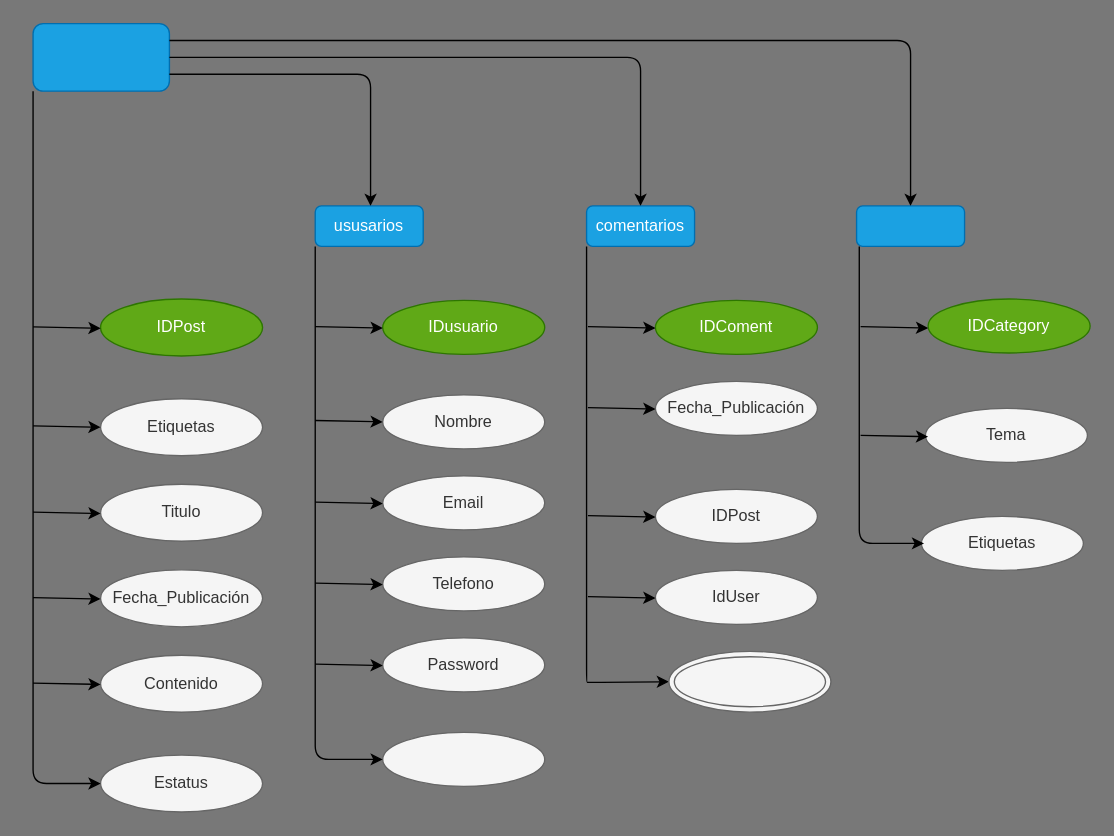
The diagram is 1114 pixels wide and 836 high, and some of its shapes have lost their labels. The box of each missing label's shape, as (x1, y1, x2, y2) in pixels:
Apellido: (381, 731, 545, 786)
categorías: (855, 205, 965, 246)
posts: (32, 22, 169, 91)
Relaciones: (668, 650, 831, 712)
